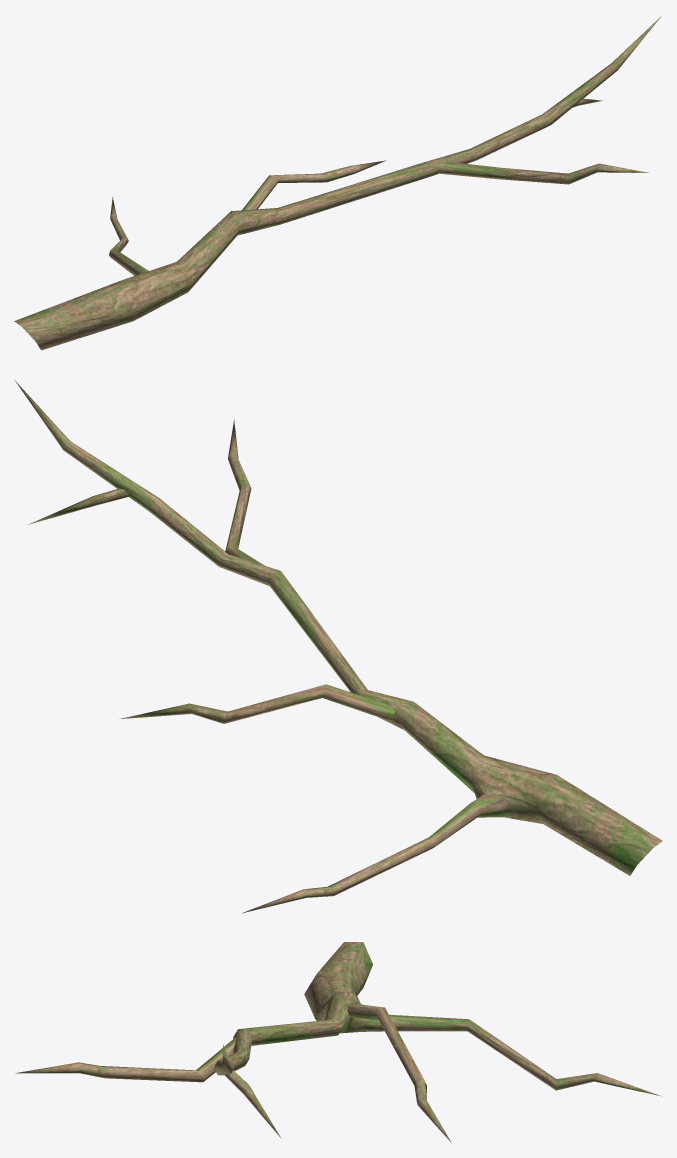
The model's file is branch_b.glb.
3 views of the same model, one above another, from view 1: azimuth 30°, elevation 25°; view 2: azimuth 150°, elevation 25°; view 3: azimuth 270°, elevation 25° (orthographic). The views are drawn at different scales.
Parts seen in each view (by area): view 1: trees_bark_001_col.jpg__; view 2: trees_bark_001_col.jpg__; view 3: trees_bark_001_col.jpg__.
Part boxes in pixels (x1,y1,x2,y2): trees_bark_001_col.jpg__: [14, 16, 661, 350]; trees_bark_001_col.jpg__: [15, 380, 662, 913]; trees_bark_001_col.jpg__: [15, 942, 661, 1142].
Bounding box in the file's own units: 134 × 50.67 × 105.
Materials: 1 (1 with a texture image).
